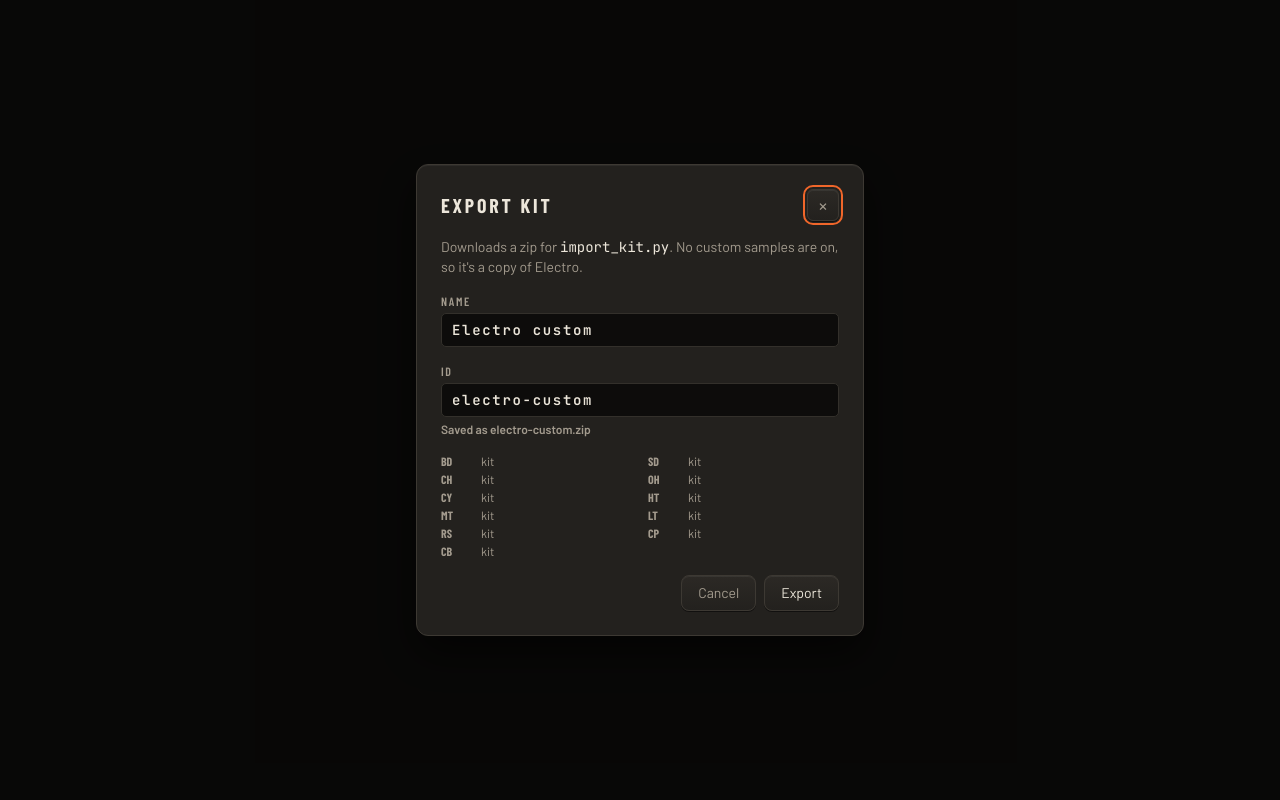
Test case: ExportKitDialog › an invalid ID disables Export
Replace the text in the field labelled "ID Saved as electro-custom.zip" with "Bad ID" at {"x": 640, "y": 400}, box x1=441 y1=383 x2=839 y2=417
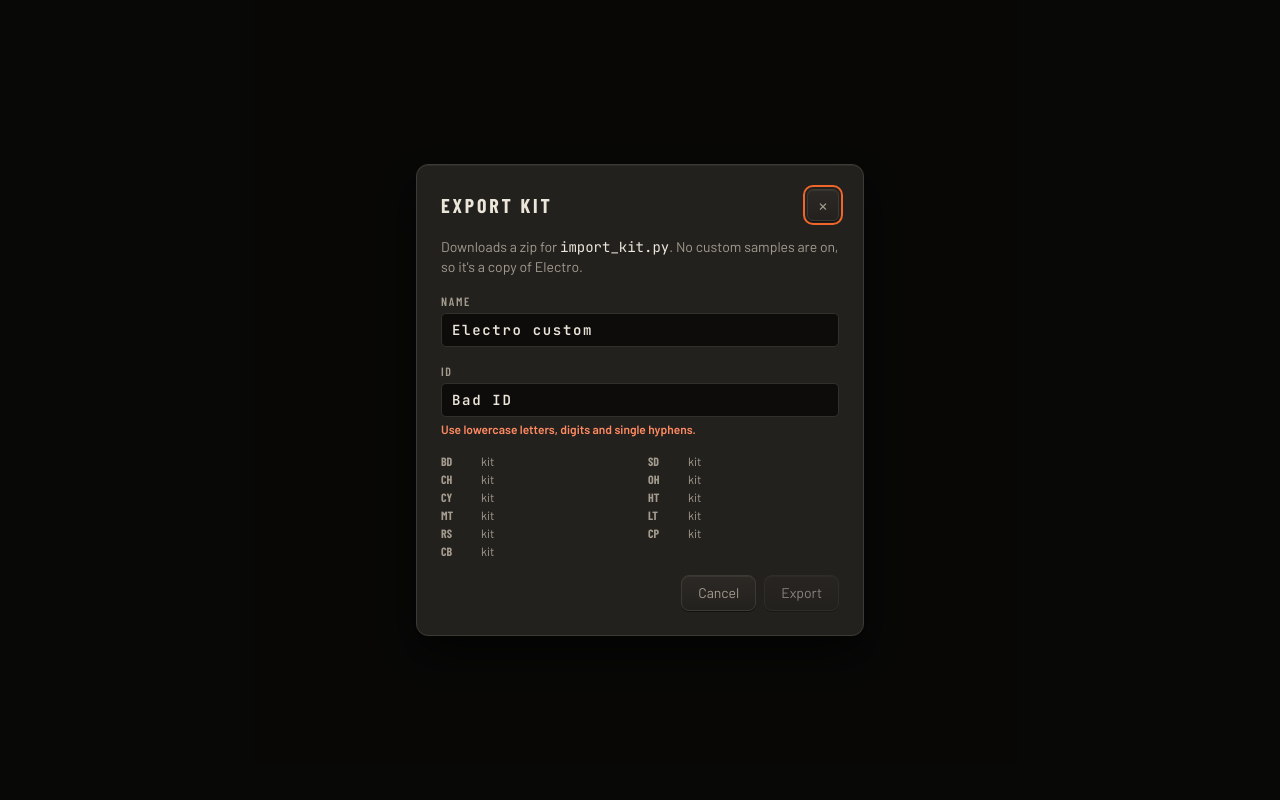
Expected: the button "Export" is disabled, x1=764 y1=575 x2=839 y2=611
Expected: the text "Use lowercase letters, digits and single hyphens." is shown, x1=441 y1=422 x2=696 y2=436
